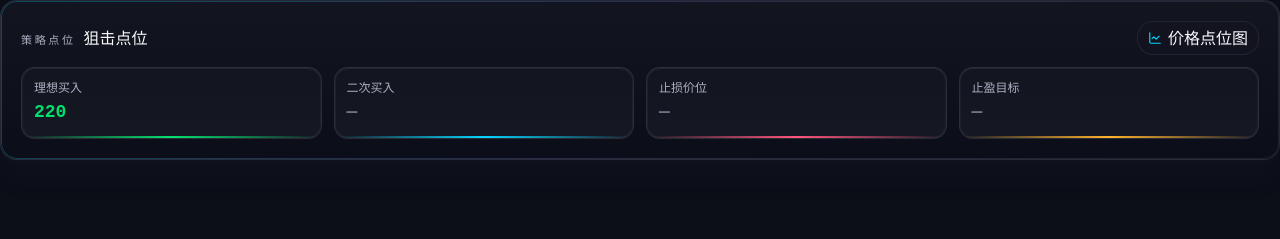
Scenario: ReportStrategy chart chunk failure › keeps the report visible when the optional chart module cannot load
Expected: the text "220" is shown, [34,102,66,122]
Click the button "价格点位图": (1198, 38) [1137,21,1259,55]
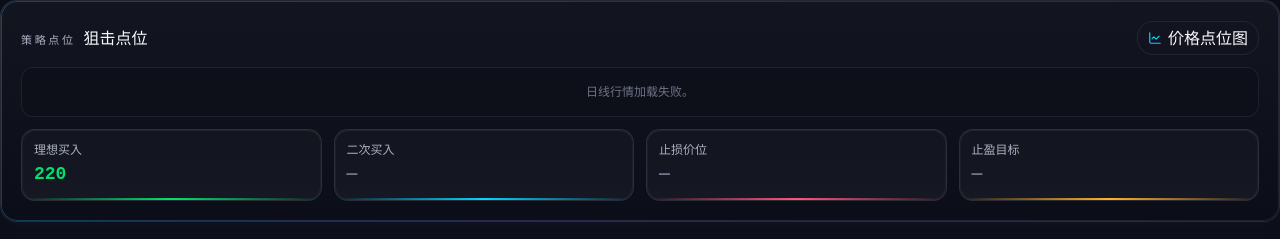
Expected: the text "220" is shown, [34,164,66,184]
Expected: the message reads "日线行情加载失败。", [586,84,694,99]
